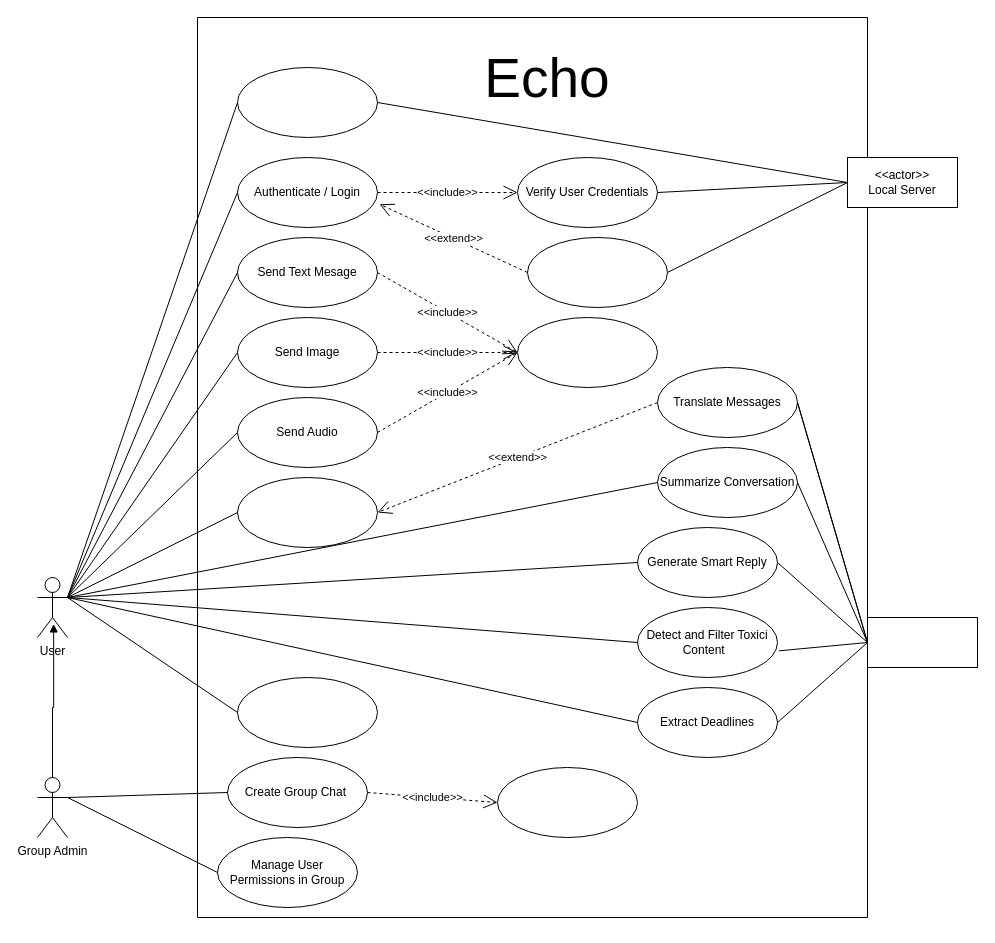
This 995x943 diagram has some shape labels left out. Each missing label, with the centre of its shape:
"<<actor>> AI Module" belongs at pixel 922 642.
"Forget Password/ Recover Credentials" belongs at pixel 597 272.
"Handle Encryption" belongs at pixel 587 352.
"Manage Group Membership" belongs at pixel 567 802.
"Opt-in/ Opt-out of AI Features" belongs at pixel 307 712.
"Receive Encrypted Message" belongs at pixel 307 512.
"Register User" belongs at pixel 307 102.
